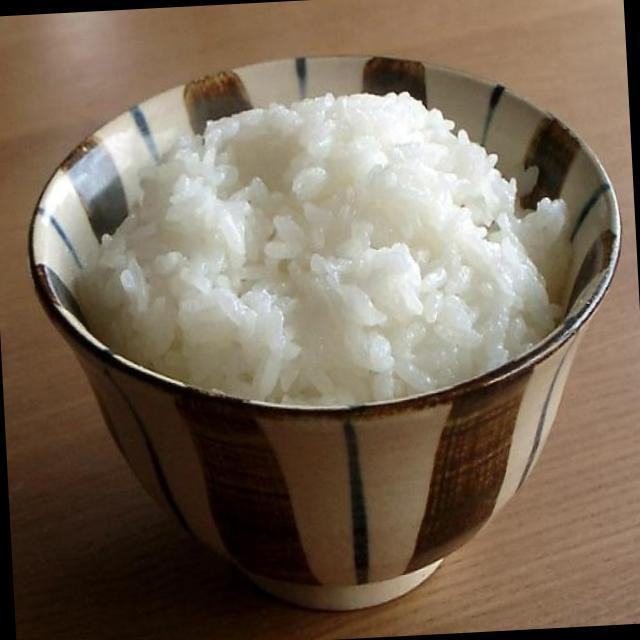Rice: (71, 80, 546, 416)
